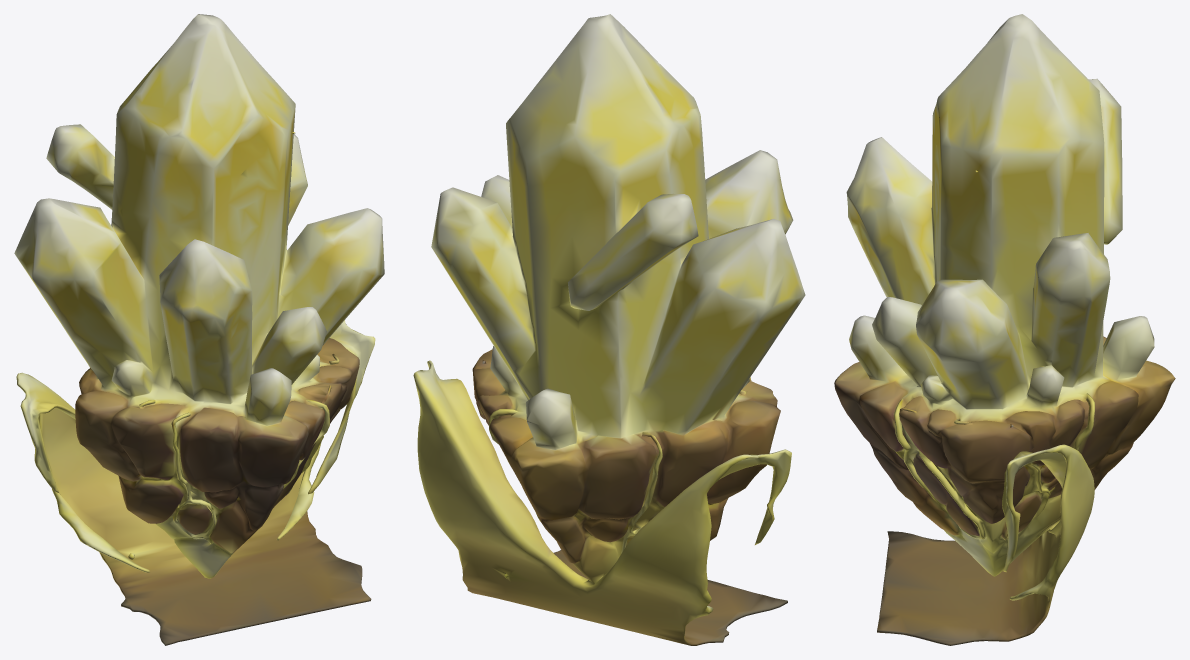
The model's file is Crystal.glb.
3 views of the same model, side by side, from view 1: azimuth 30°, elevation 25°; view 2: azimuth 150°, elevation 25°; view 3: azimuth 270°, elevation 25° (orthographic). The views are drawn at different scales.
Visible parts, largest first — view 1: geometry_0; view 2: geometry_0; view 3: geometry_0.
Boxes of the visible parts, x1,y1,x2,y2 form: geometry_0: (14, 14, 384, 645); geometry_0: (413, 14, 805, 645); geometry_0: (834, 14, 1175, 645).
Bounding box in the file's own units: 0.6318 × 0.9814 × 0.5339.
